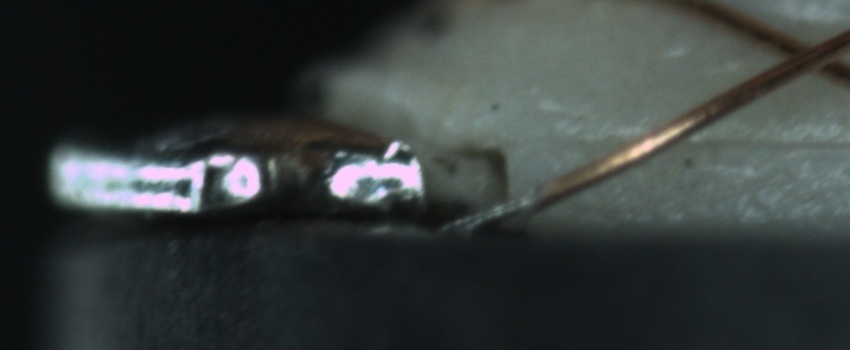CL: (758, 22, 847, 88)
DL: (551, 113, 850, 171)
TS: (454, 189, 544, 230)
